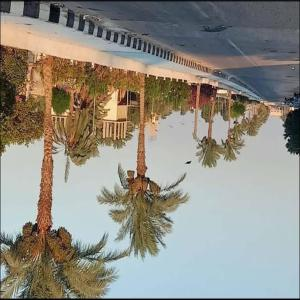palm tree: (96, 70, 190, 260)
